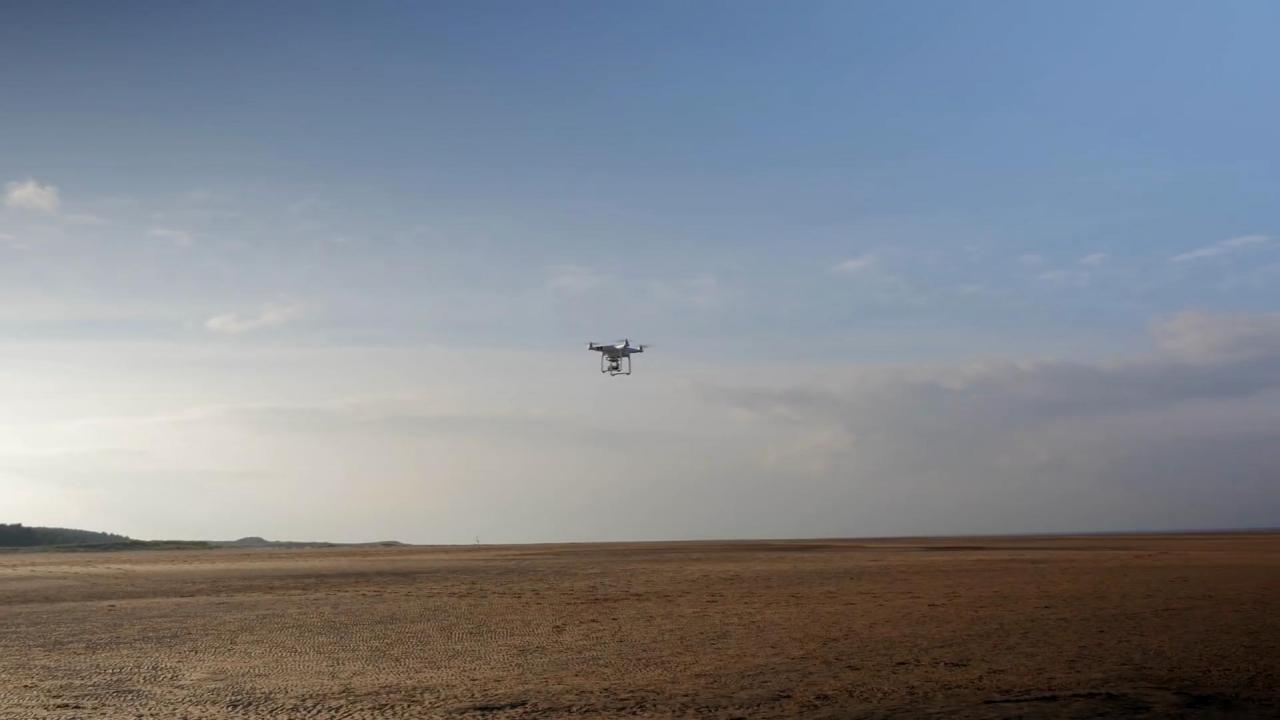Drone: (576, 334, 662, 384)
